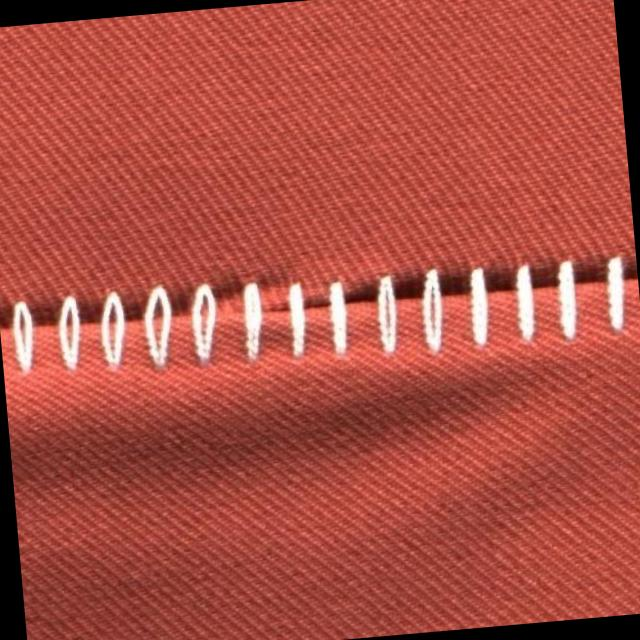gray stitch: (5, 237, 640, 395)
